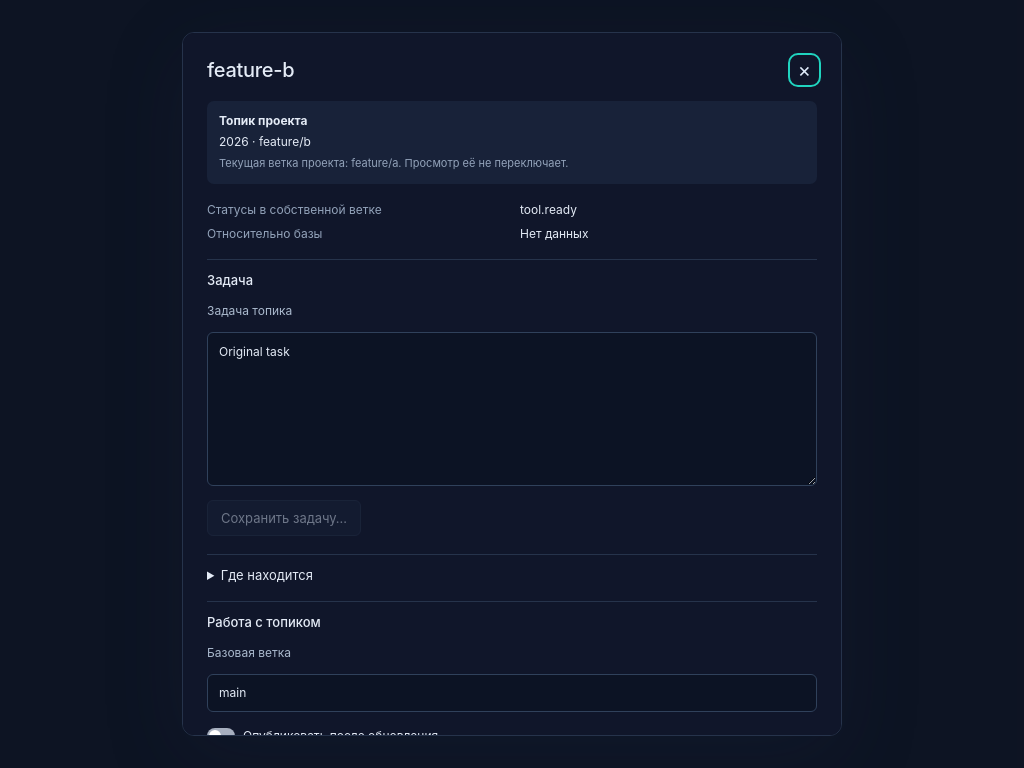
Test: clone publication retains the draft guard
Replace the text in the text box labelled "Задача топика" with "Unsaved task" at (512, 409), box x1=207 y1=332 x2=817 y2=486
(page scrolled)
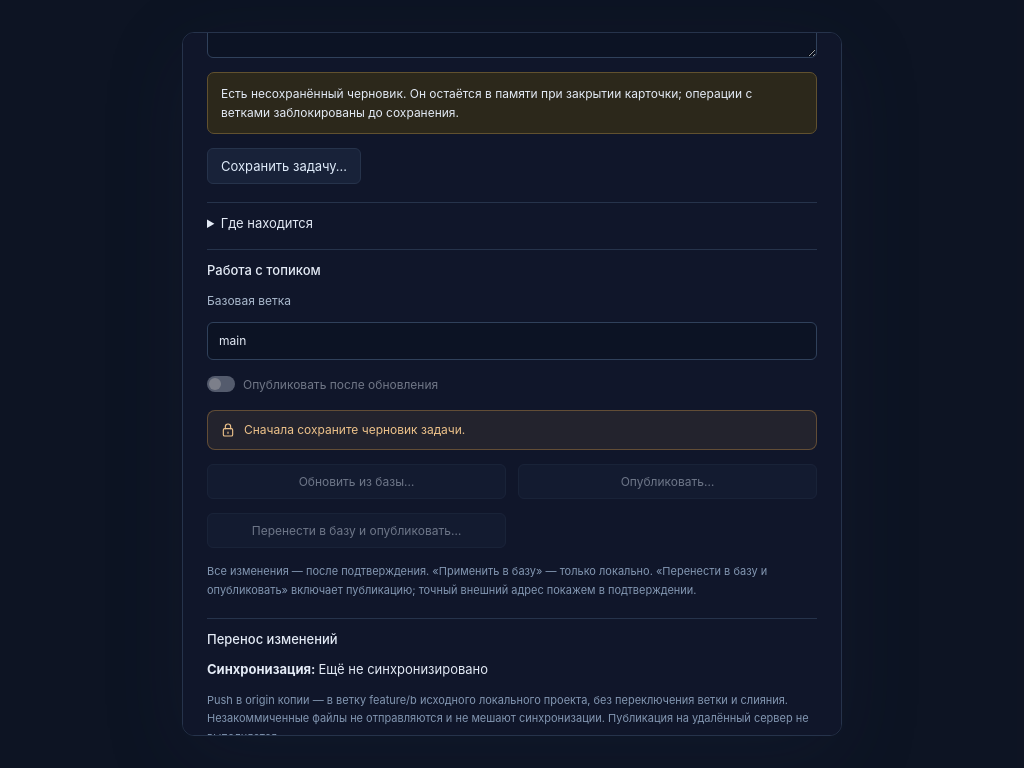
Expected: the button "Опубликовать…" is disabled, x1=518 y1=464 x2=817 y2=499
Expected: the button "Обновить из базы…" is disabled, x1=207 y1=464 x2=506 y2=499
Expected: the button "Перенести в базу и опубликовать…" is disabled, x1=207 y1=513 x2=506 y2=548
